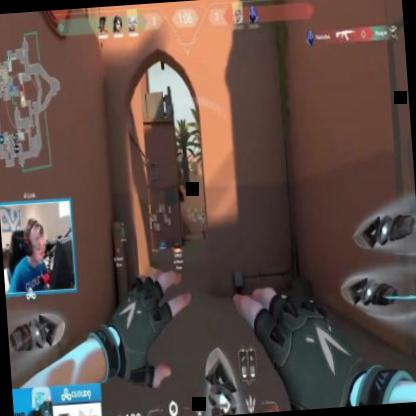enemy: (200, 211, 206, 238)
enemy_head: (202, 212, 204, 218)
